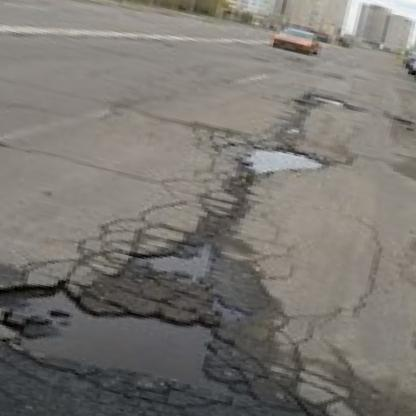pothole: (0, 266, 239, 404), (121, 232, 213, 289), (243, 138, 327, 191), (303, 92, 344, 106)
